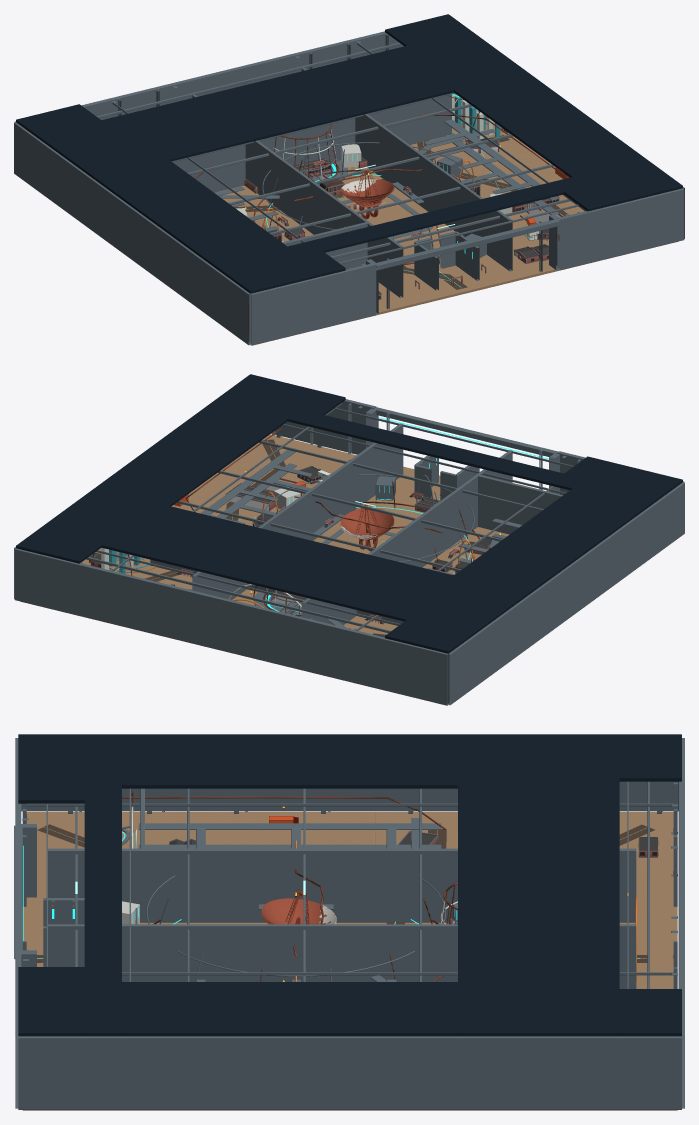
File: orbital_complex.glb
The picture shows the model from 3 angles, top to bottom: view 1: azimuth 30°, elevation 25°; view 2: azimuth 150°, elevation 25°; view 3: azimuth 270°, elevation 25°; orthographic projection. The views are drawn at different scales.
Visible parts, largest first — view 1: BunkerCeiling_MidNorth, BunkerPerimeterWest, BunkerCeiling_AtriumWest, BunkerCeiling_AtriumEast, BunkerPerimeterSouthWest, BunkerPerimeterSouthEast, NorthSiloBulkhead, BunkerCeiling_Transition, EastQuarantineBulkhead, BunkerFloorSouth, WestPowerBulkhead, BunkerPerimeterNorth (+20 smaller); view 2: BunkerCeiling_MidNorth, BunkerPerimeterNorth, BunkerPerimeterWest, BunkerCeiling_AtriumWest, BunkerCeiling_AtriumEast, BunkerCeiling_Transition, BunkerFloorSouth, EastQuarantineBulkhead, WestPowerBulkhead, SouthPressureBulkhead, BunkerCeiling_SouthWest, BunkerCeiling_SouthEast (+18 smaller); view 3: BunkerPerimeterEast, BunkerCeiling_MidNorth, WestPowerBulkhead, EastQuarantineBulkhead, BunkerCeiling_AtriumEast, BunkerCeiling_AtriumWest, BunkerCeiling_Transition, BunkerFloorSouth, BunkerFloorNorth, BunkerPerimeterWest, BunkerCeiling_SouthEast, BunkerCeiling_SouthWest (+17 smaller).
Boxes of the visible parts, box(x1,y1,x2,y2) form: BunkerCeiling_MidNorth: box(38, 30, 526, 179); BunkerPerimeterWest: box(14, 122, 251, 345); BunkerCeiling_AtriumWest: box(95, 159, 286, 266); BunkerCeiling_AtriumEast: box(454, 72, 645, 177); BunkerPerimeterSouthWest: box(249, 263, 376, 345); BunkerPerimeterSouthEast: box(557, 188, 684, 270); NorthSiloBulkhead: box(173, 94, 451, 192); BunkerCeiling_Transition: box(214, 159, 658, 276); EastQuarantineBulkhead: box(301, 67, 512, 271); BunkerFloorSouth: box(252, 195, 678, 345); WestPowerBulkhead: box(192, 94, 403, 297); BunkerPerimeterNorth: box(14, 31, 403, 122); BunkerCeiling_MidNorth: box(38, 488, 527, 637); BunkerPerimeterNorth: box(14, 548, 449, 705); BunkerPerimeterWest: box(447, 482, 684, 705); BunkerCeiling_AtriumWest: box(454, 488, 646, 595); BunkerCeiling_AtriumEast: box(95, 401, 287, 506); BunkerCeiling_Transition: box(214, 391, 659, 508); BunkerFloorSouth: box(189, 434, 509, 574); EastQuarantineBulkhead: box(192, 423, 403, 599); WestPowerBulkhead: box(301, 450, 512, 624); SouthPressureBulkhead: box(478, 475, 562, 534); BunkerCeiling_SouthWest: box(564, 456, 682, 498); BunkerCeiling_SouthEast: box(227, 374, 345, 414); BunkerPerimeterEast: box(18, 1036, 681, 1109); BunkerCeiling_MidNorth: box(458, 734, 619, 1036); WestPowerBulkhead: box(47, 848, 636, 922); EastQuarantineBulkhead: box(47, 924, 636, 988); BunkerCeiling_AtriumEast: box(122, 982, 457, 1036); BunkerCeiling_AtriumWest: box(122, 734, 457, 788); BunkerCeiling_Transition: box(84, 734, 121, 1036); BunkerFloorSouth: box(22, 812, 374, 1110); BunkerFloorNorth: box(375, 812, 677, 1110); BunkerPerimeterWest: box(21, 781, 678, 811); BunkerCeiling_SouthEast: box(18, 967, 84, 1036); BunkerCeiling_SouthWest: box(18, 734, 84, 803).
Bounding box in the file's own units: 340 × 58 × 320.
Materials: 43 (29 with a texture image).
